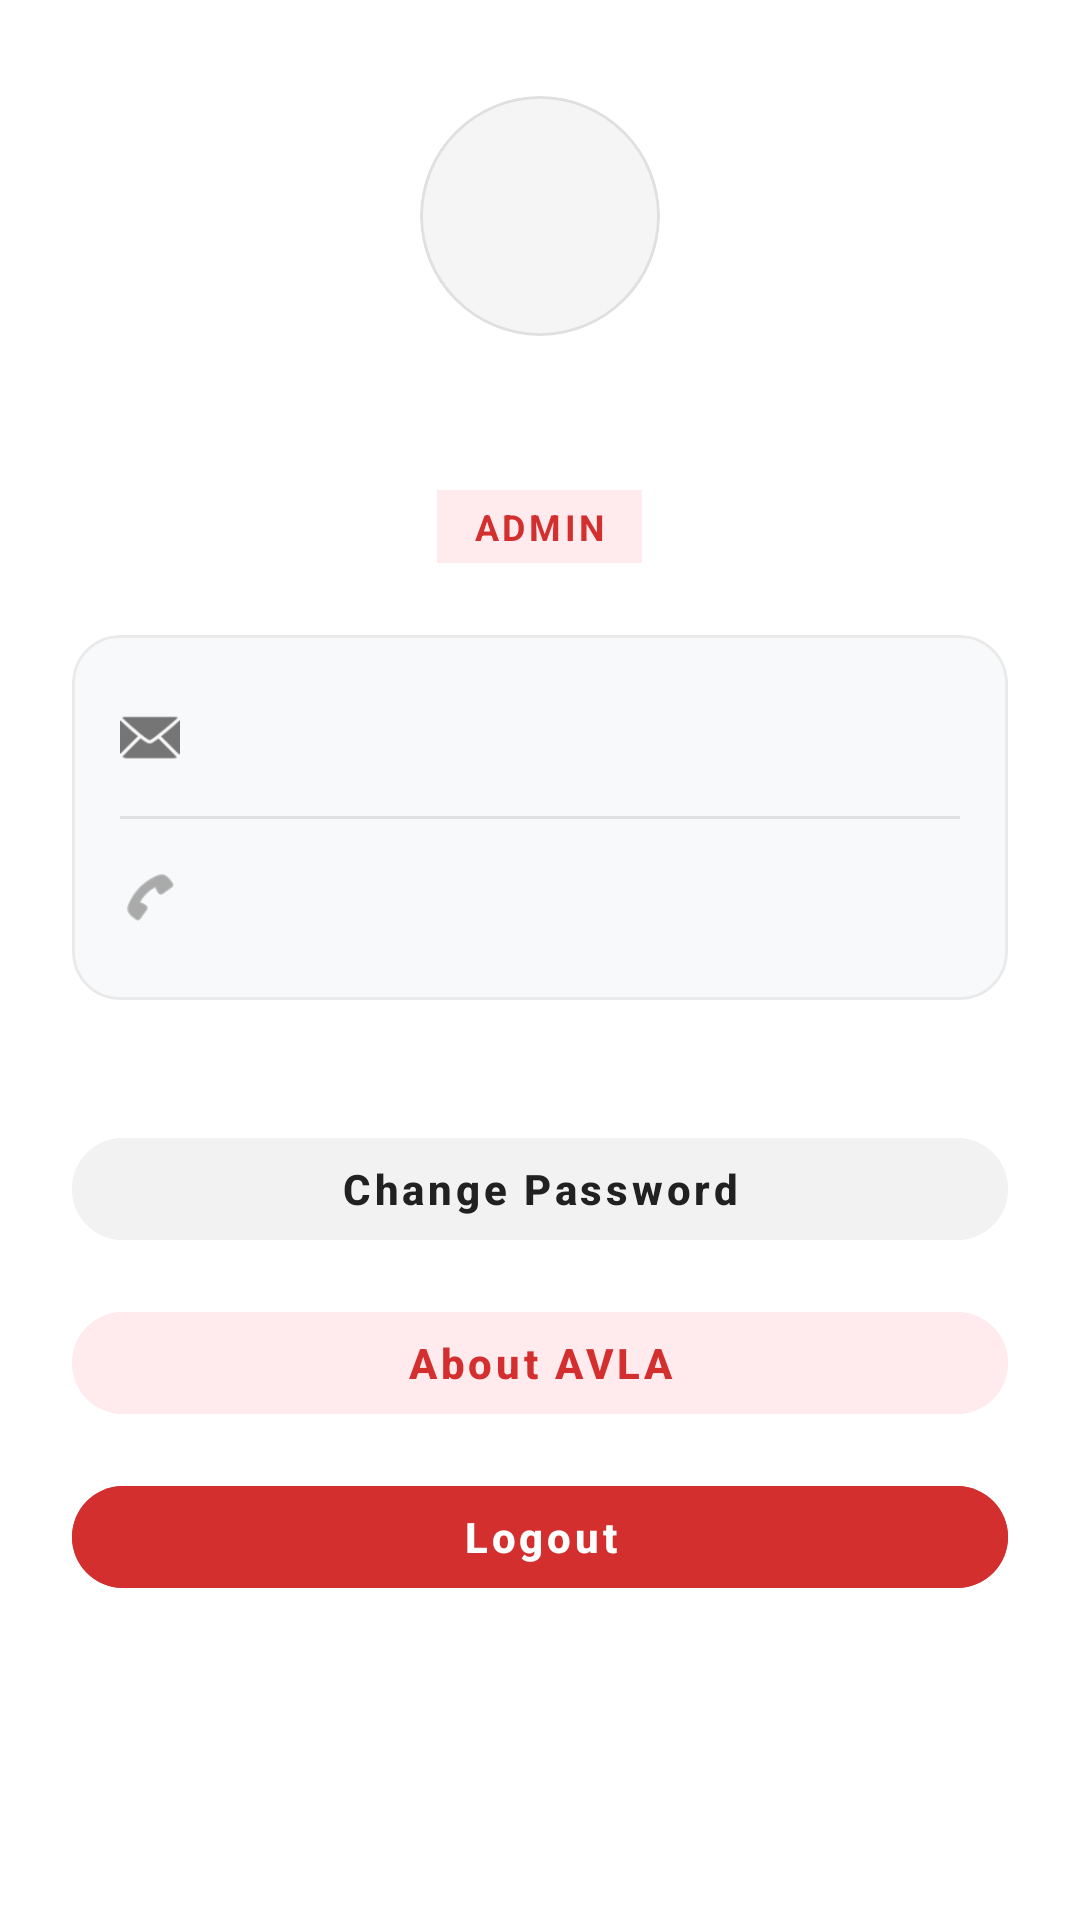

Where icons sit on this 1080 × 1920 app screen, as [x1,y1,x2,y2]:
call: [127,874,174,921]
email: [120,716,180,759]
